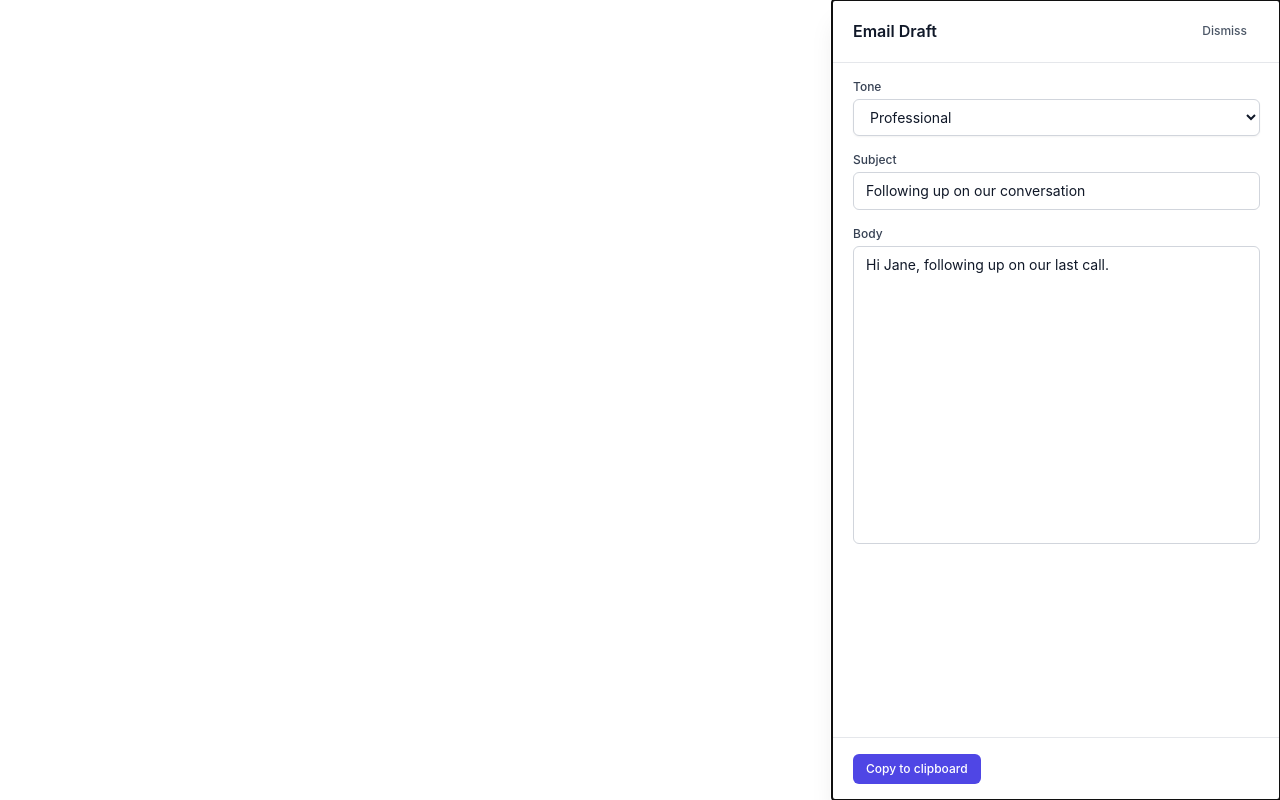
EmailDraftPanel › regenerates the draft when the tone selector changes
Select "Friendly" in the dropdown with test id "email-draft-tone-select" at (1056, 118), box 853,99 -> 1260,136
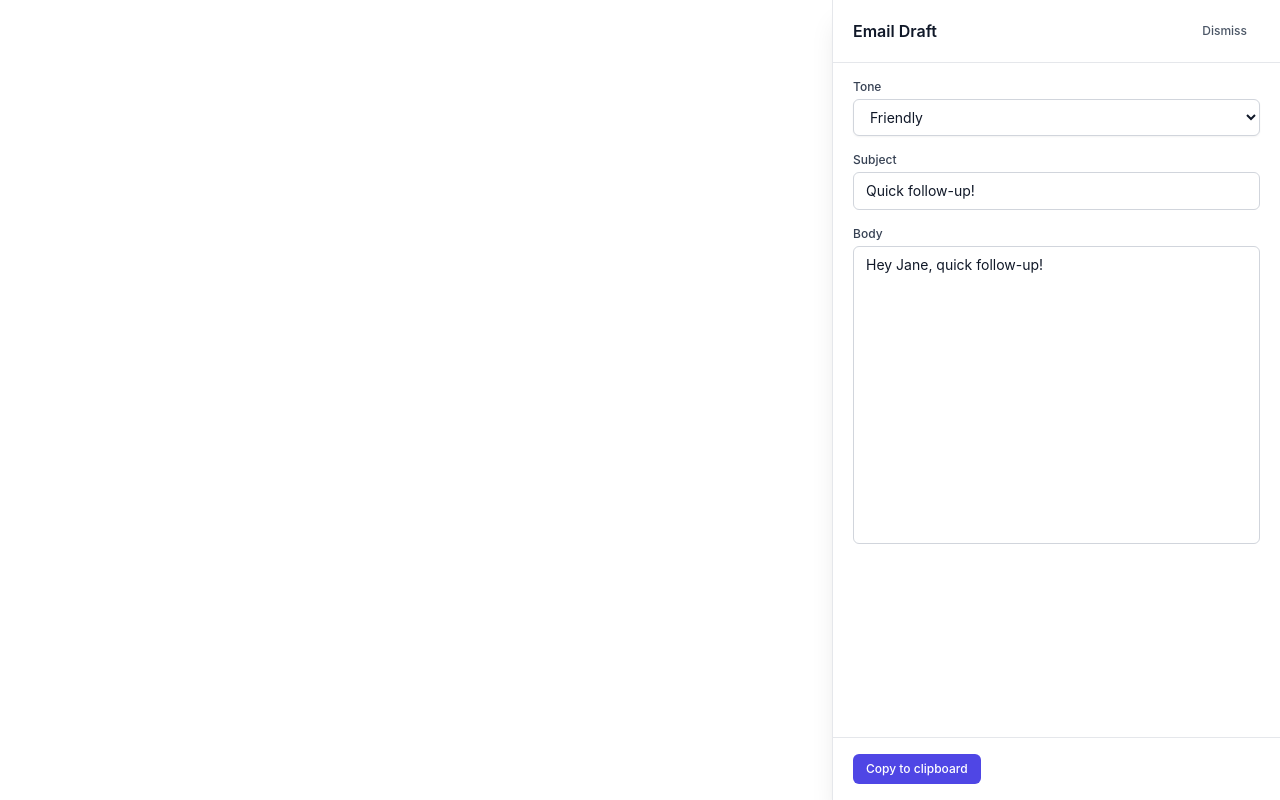
Expected: the field with test id "email-draft-subject" holds "Quick follow-up!", 853,172 -> 1260,210
Expected: the text box with test id "email-draft-body" holds "Hey Jane, quick follow-up!", 853,246 -> 1260,544
